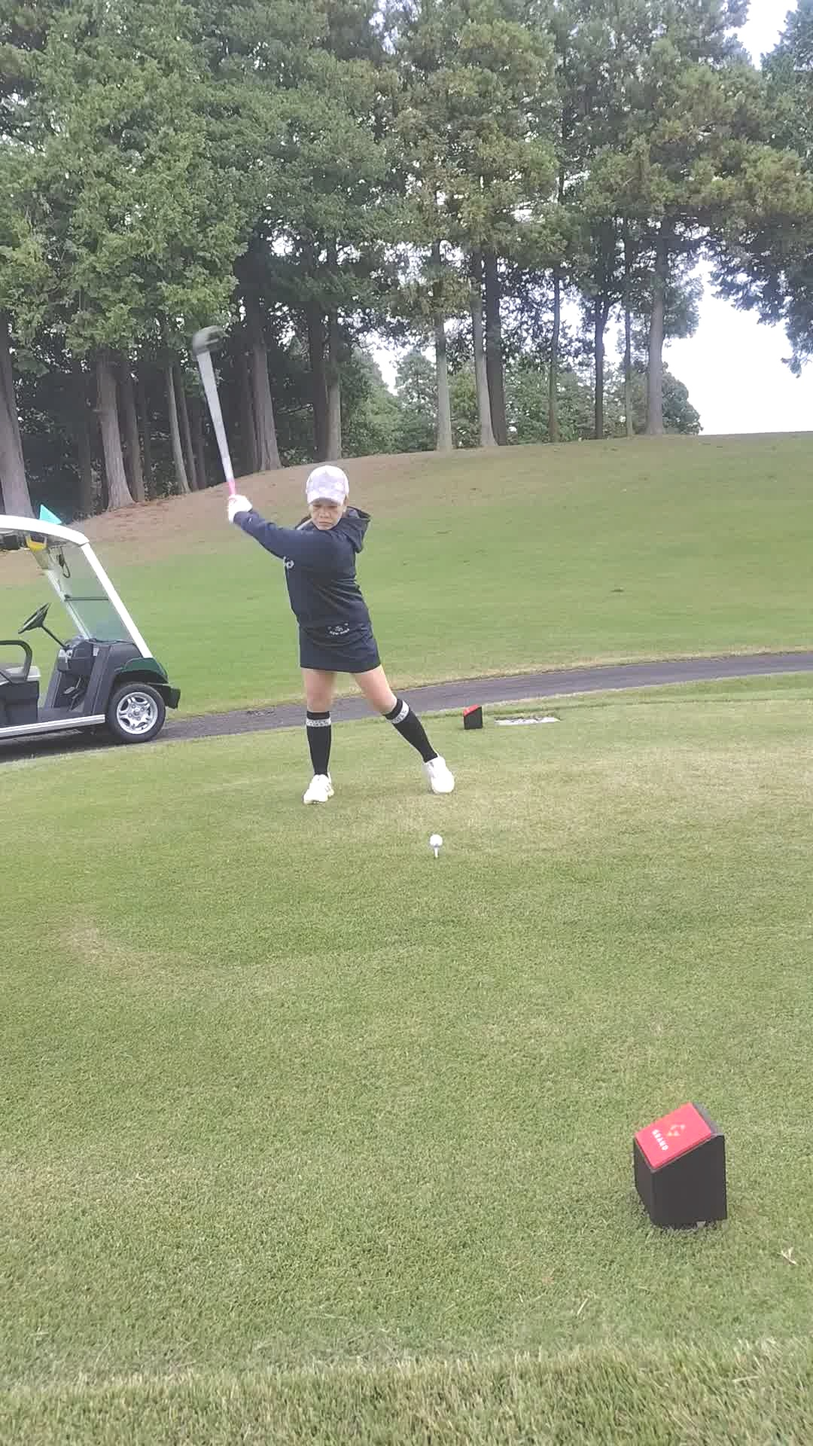clubhead: (148, 289, 276, 417)
